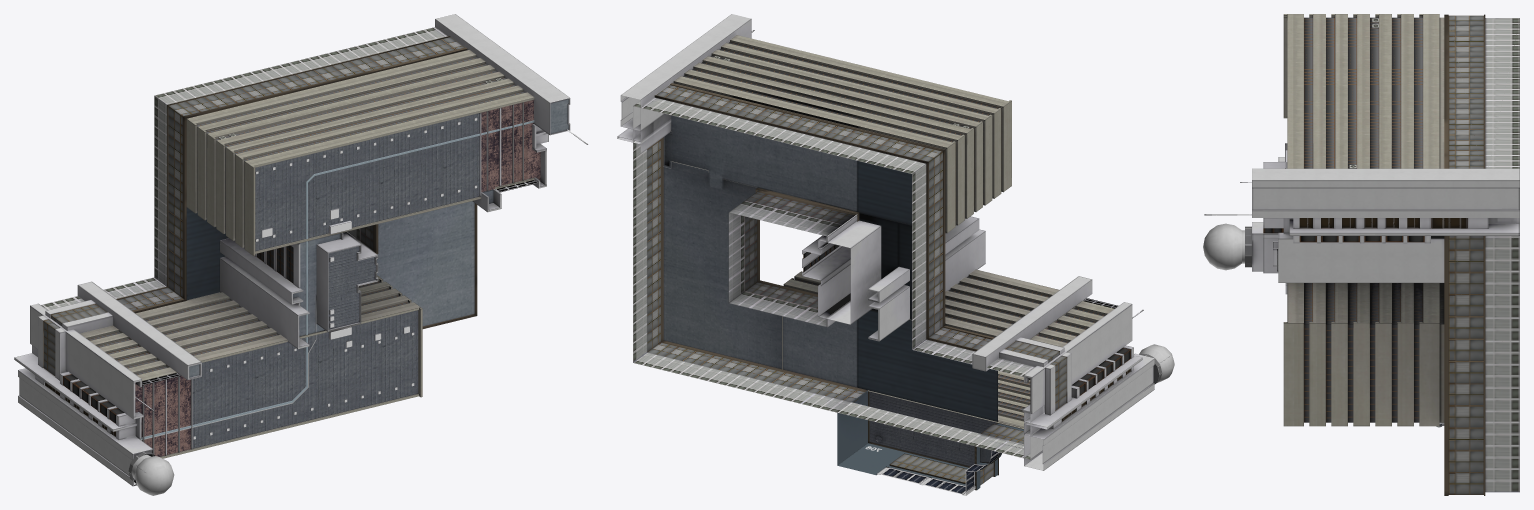
File: Office Building N160725.obj
The picture shows the model from 3 angles, left to right: view 1: azimuth 30°, elevation 25°; view 2: azimuth 150°, elevation 25°; view 3: azimuth 270°, elevation 25°; orthographic projection. The views are drawn at different scales.
Visible parts, largest first — view 1: Line003; view 2: Line003; view 3: Line003.
Part boxes in pixels (x1=…): Line003: x1=14, y1=14, x2=587, y2=495; Line003: x1=617, y1=14, x2=1174, y2=495; Line003: x1=1203, y1=14, x2=1519, y2=495.
Size of the model in its own units: 0.08 by 0.0561 by 0.042.
1 material, 1 textured.
